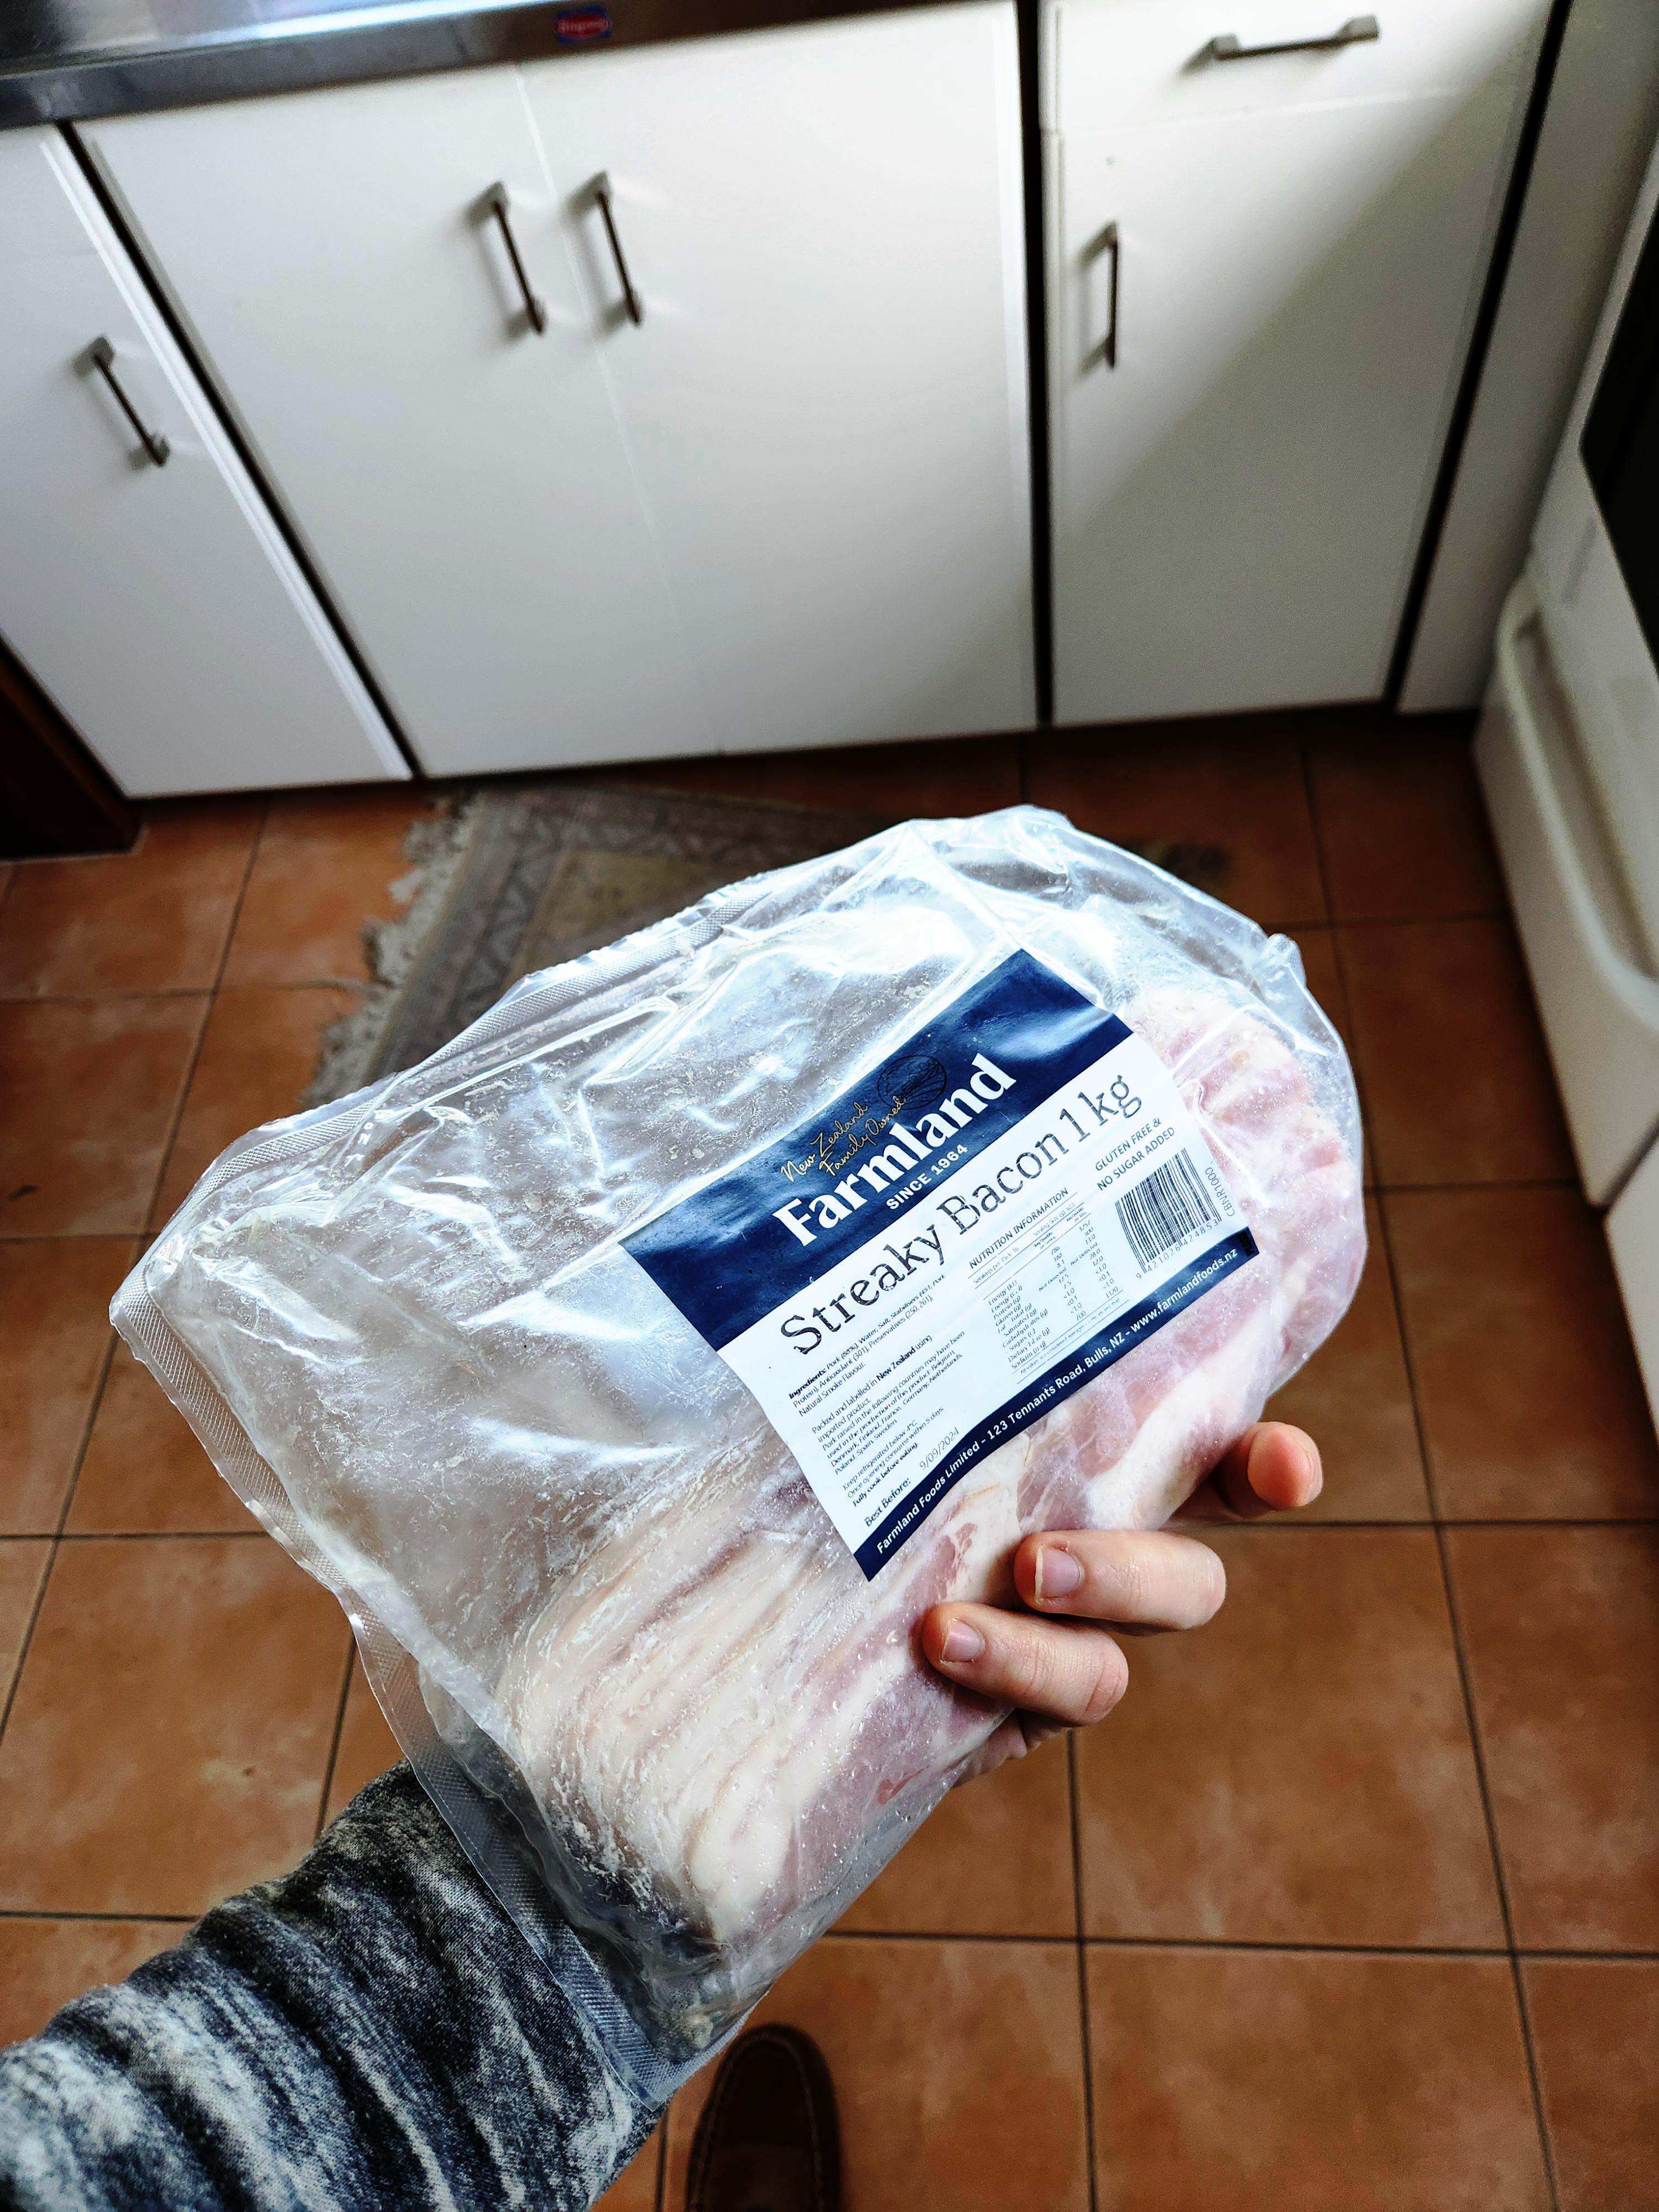bacon: (80, 1080, 1025, 2212)
